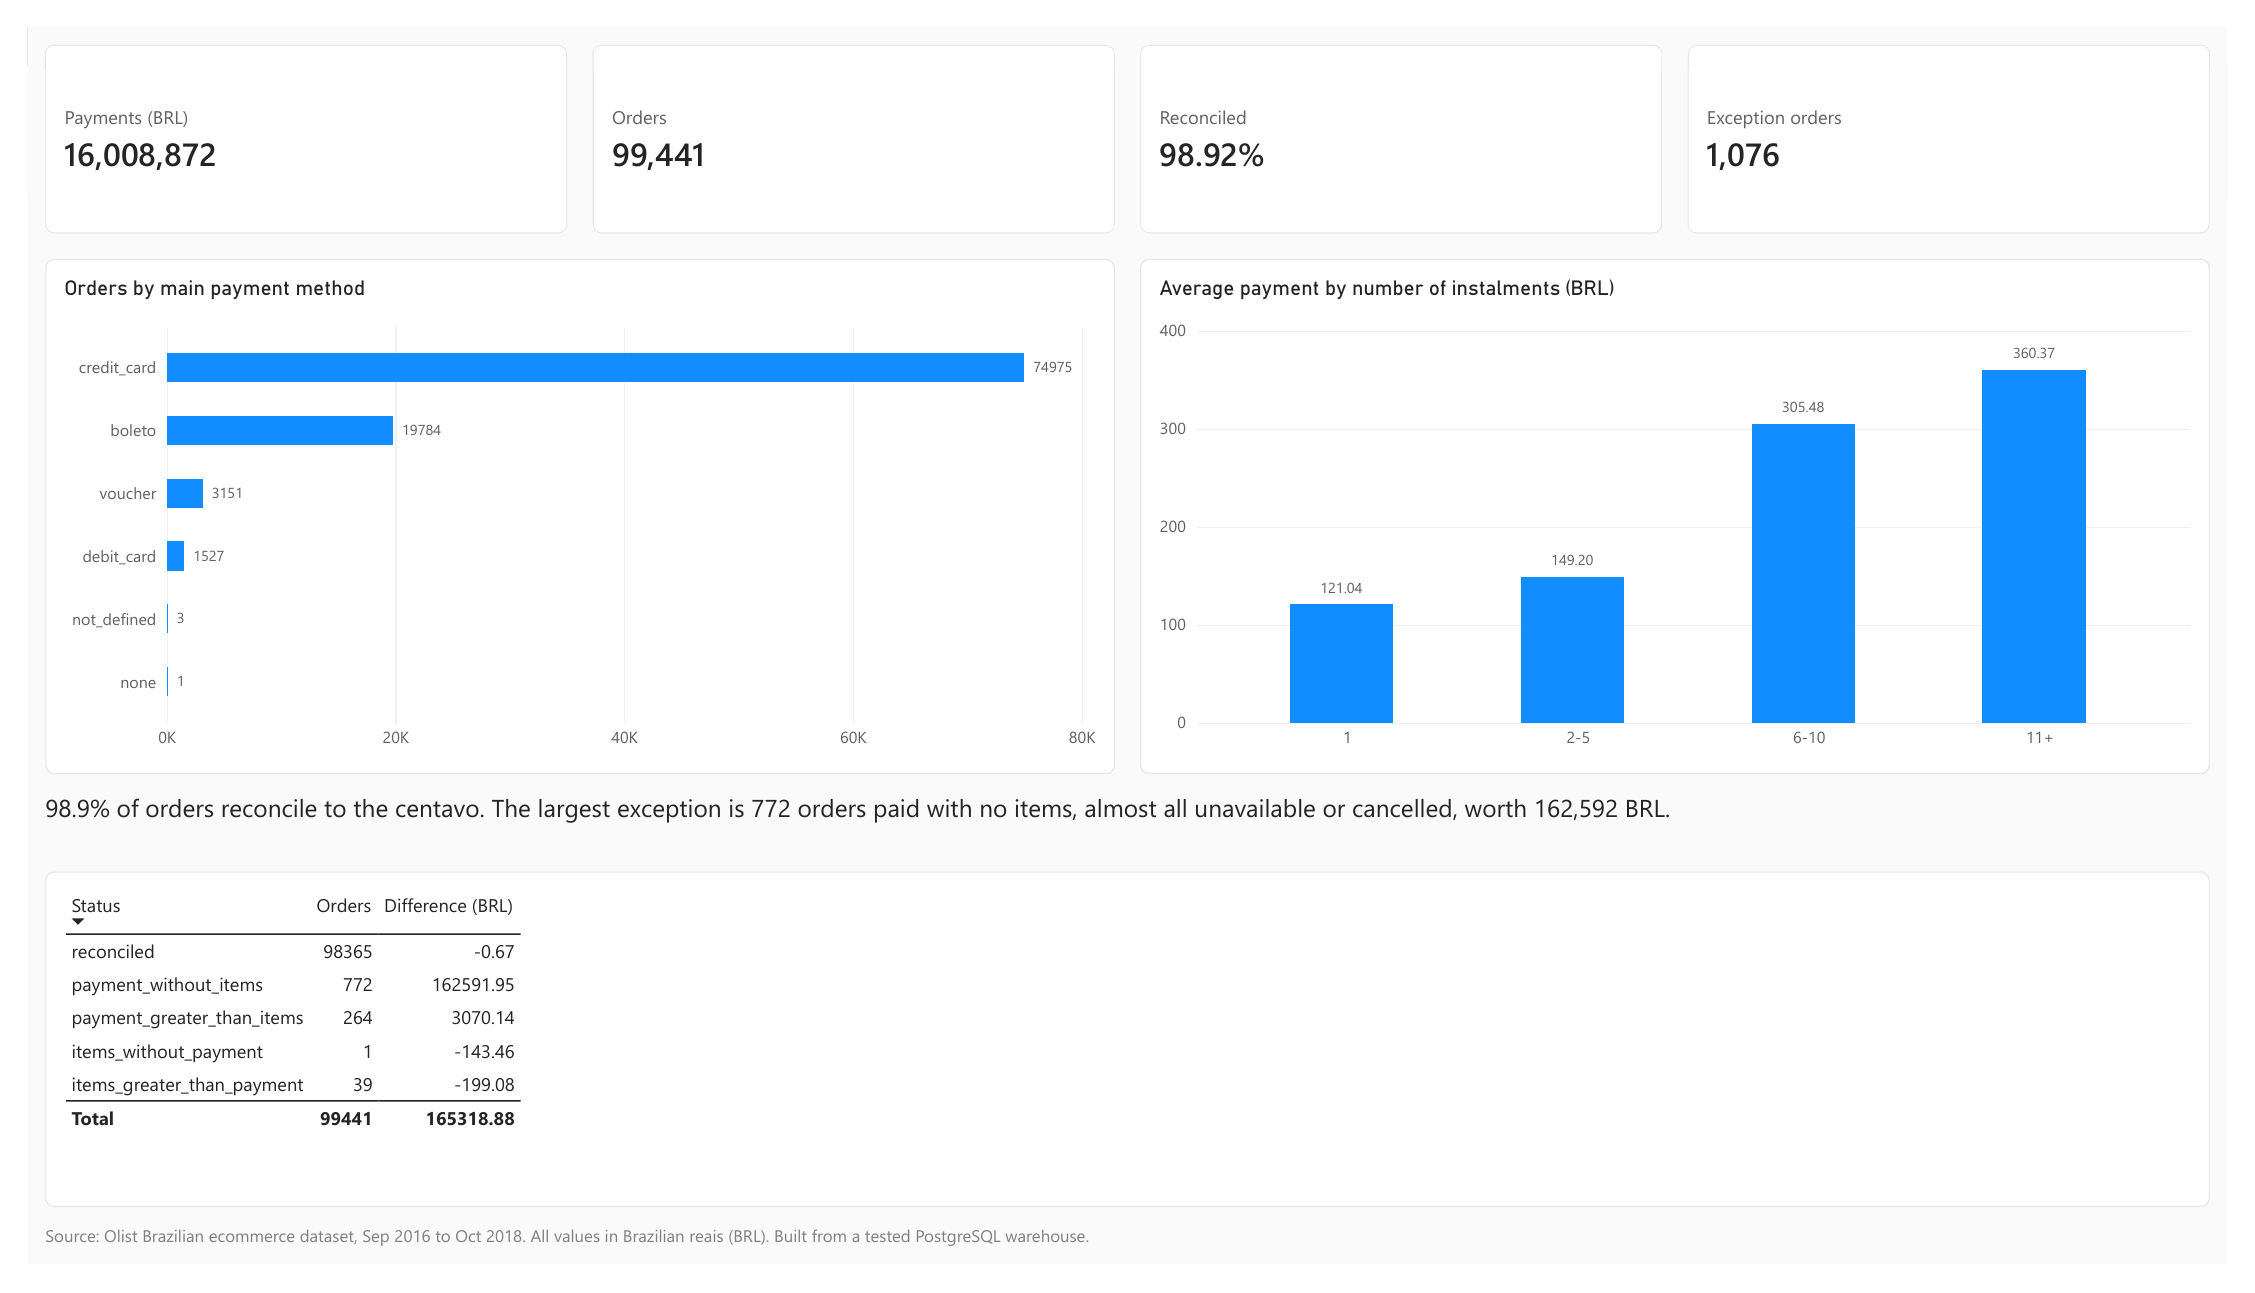

The dashboard page shown, as its layout file describes it:
{"tool":"powerbi","page":{"name":"Payments","canvas":[1920,1080],"ordinal":3},"visuals":[{"type":"cardVisual","fields":{"Data":["payment_analysis.Reconciled Rate"]},"box":[971,15,456,165],"z":0},{"type":"cardVisual","fields":{"Data":["payment_analysis.Payement Total Label"]},"box":[15,15,456,165],"z":1000},{"type":"cardVisual","fields":{"Data":["payment_analysis.Order Count Label"]},"box":[493,15,456,165],"z":2000},{"type":"cardVisual","fields":{"Data":["payment_analysis.Exception Orders Label"]},"box":[1449,15,456,165],"z":3000},{"type":"barChart","title":"Orders by main payment method","fields":{"Category":["payment_analysis.main_payment_type"],"Y":["payment_analysis.Order Count"]},"box":[15,202,934,450],"z":4000},{"type":"columnChart","title":"Average payment by number of instalments (BRL)","fields":{"Category":["payment_analysis.installment_band"],"Y":["payment_analysis.Avg Payment"]},"box":[971,202,934,450],"z":5000},{"type":"textbox","box":[15,667,1890,55],"z":6000},{"type":"tableEx","title":"Reconciliation of payments against items","fields":{"Values":["payment_analysis.reconciliation_status","payment_analysis.Order Count","payment_analysis.Difference"]},"box":[15,737,1890,293],"z":7000},{"type":"textbox","box":[15,1045,1890,30],"z":8000}]}

Visuals, with their boxes in screenshot pixels (x1, y1, x2, y2), scaled from the page's 1920x1080 canvas onto the 2255x1293 screenshot:
cardVisual - payment_analysis.Reconciled Rate: [1140,18,1676,216]
cardVisual - payment_analysis.Payement Total Label: [18,18,553,216]
cardVisual - payment_analysis.Order Count Label: [579,18,1115,216]
cardVisual - payment_analysis.Exception Orders Label: [1702,18,2237,216]
"Orders by main payment method" barChart: [18,242,1115,781]
"Average payment by number of instalments (BRL)" columnChart: [1140,242,2237,781]
textbox: [18,799,2237,864]
"Reconciliation of payments against items" tableEx: [18,882,2237,1233]
textbox: [18,1251,2237,1287]
